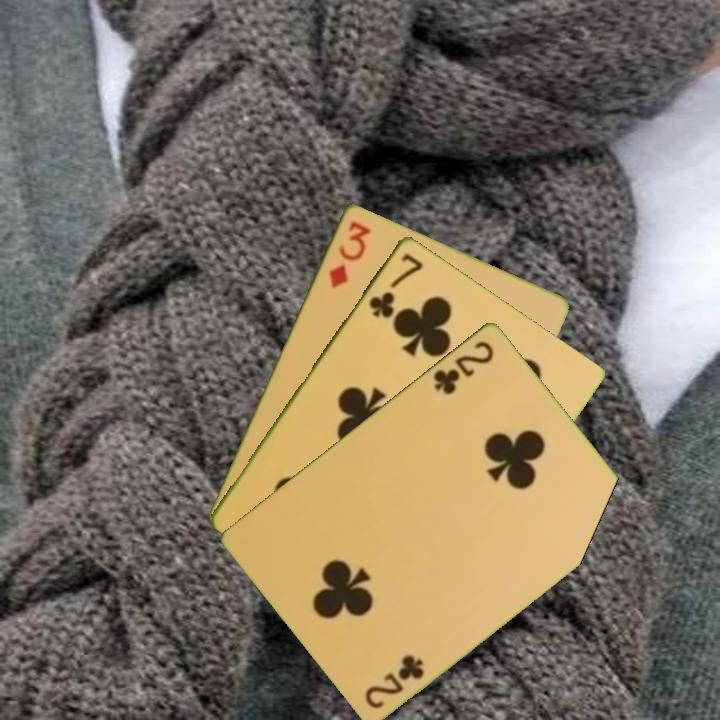2c: (429, 336, 497, 397), (361, 650, 428, 711)
3d: (325, 217, 373, 291)
7c: (365, 249, 426, 321)
